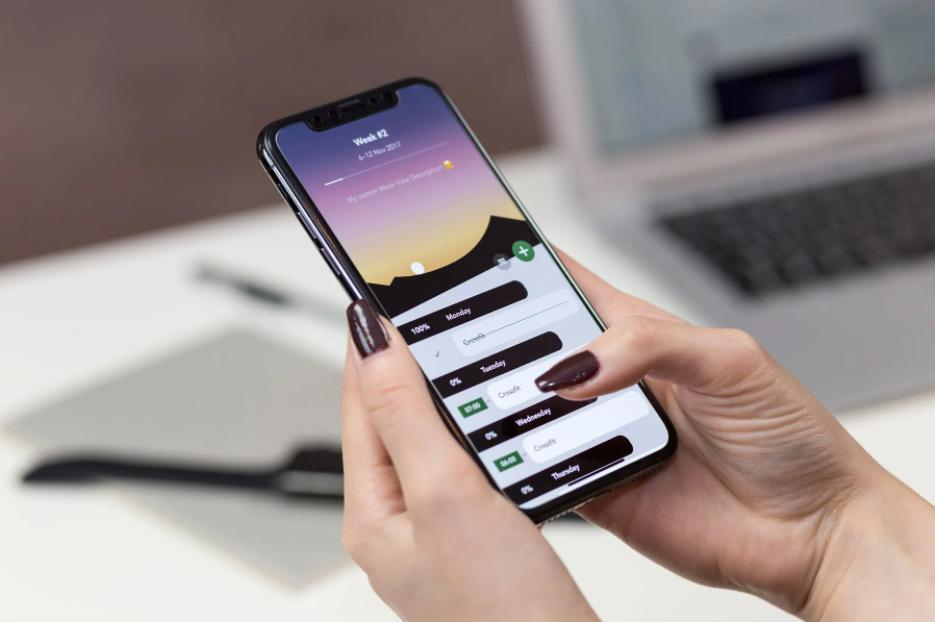mobile: (256, 75, 678, 523)
